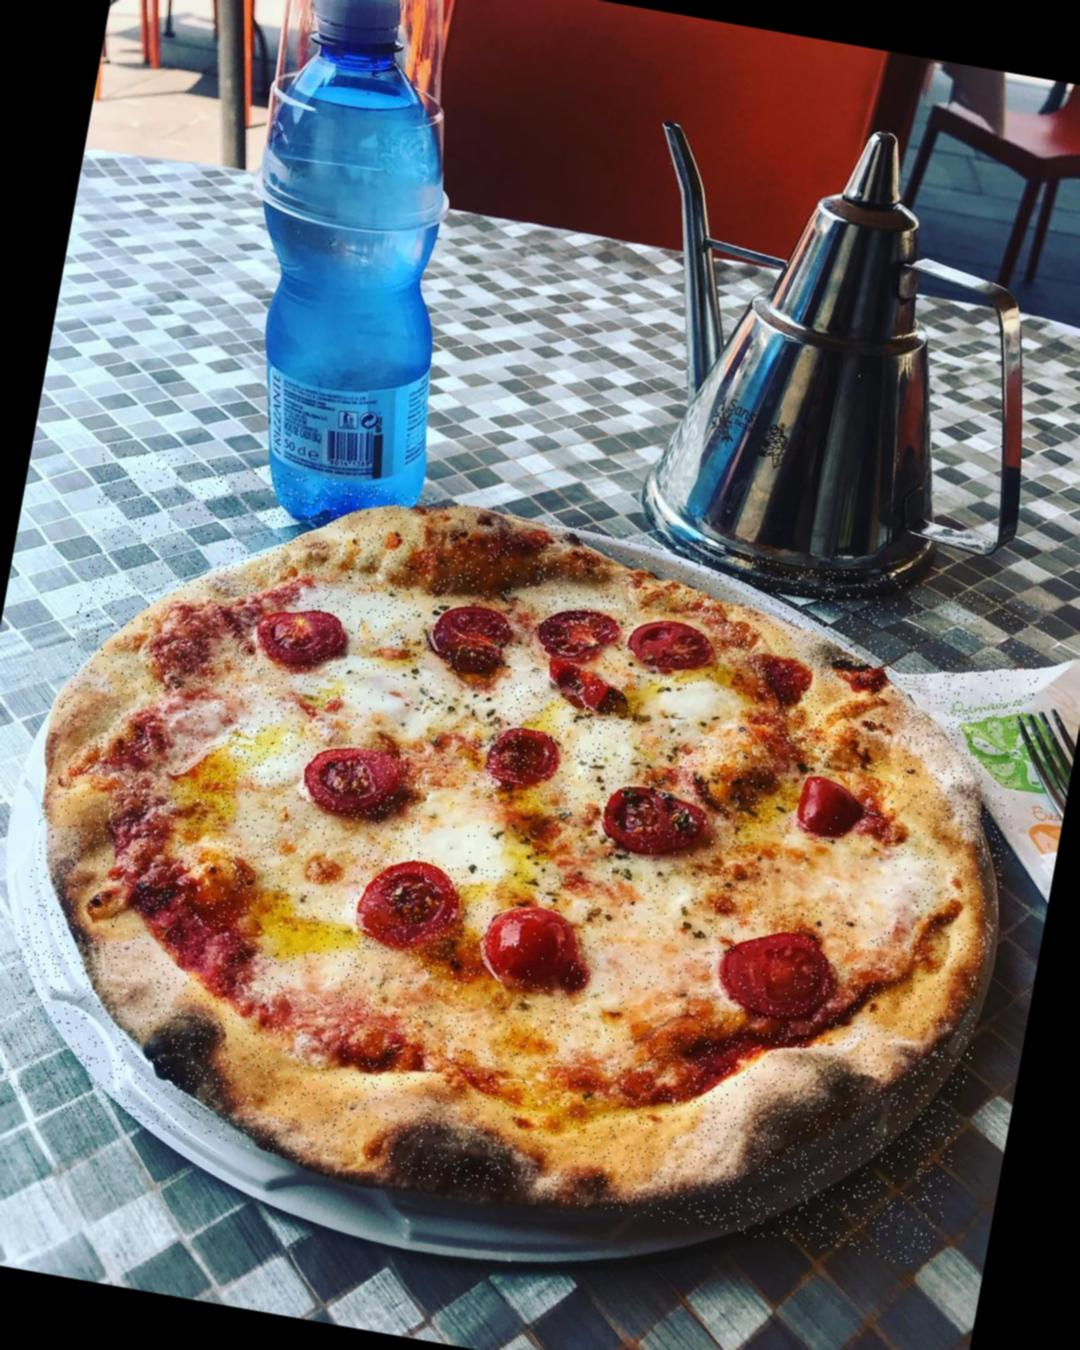Cheese: (196, 662, 326, 876), (585, 842, 721, 1043), (419, 791, 614, 884), (335, 642, 490, 757), (273, 812, 366, 996), (749, 832, 925, 921), (560, 712, 722, 798), (636, 679, 743, 748), (330, 579, 433, 639)
Pizza: (0, 439, 1050, 1270)
Tomatoes: (705, 921, 844, 1034), (355, 842, 465, 966), (482, 887, 584, 998), (603, 780, 715, 861), (295, 736, 406, 818), (627, 612, 719, 680), (432, 595, 508, 673), (530, 594, 618, 661), (256, 602, 344, 667), (790, 778, 870, 840), (484, 724, 553, 791), (546, 654, 616, 713), (731, 650, 801, 704)
